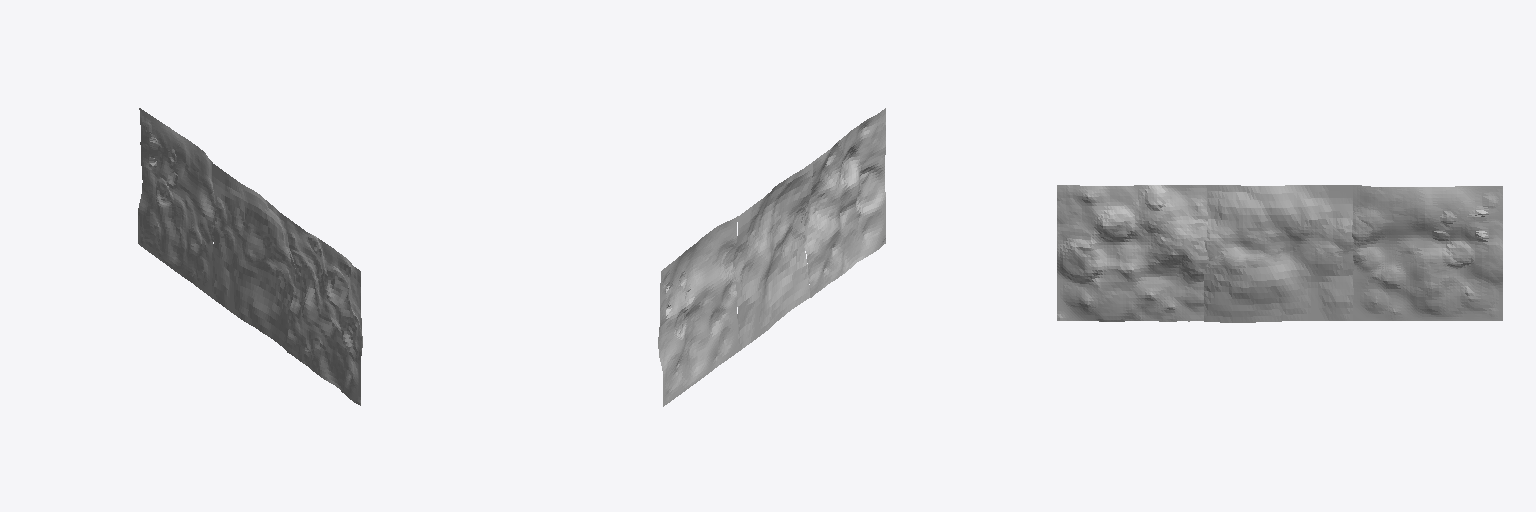
The model's file is wall.obj.
3 renders of one model, left to right at view 1: azimuth 30°, elevation 25°; view 2: azimuth 150°, elevation 25°; view 3: azimuth 270°, elevation 25°, orthographic.
Parts seen in each view (by area): view 1: Plane, Plane.001, Plane.002; view 2: Plane.002, Plane.001, Plane; view 3: Plane.002, Plane.001, Plane.
Part boxes in pixels (x1,y1,x2,y2): Plane: (212, 163, 295, 350); Plane.001: (138, 108, 216, 297); Plane.002: (287, 218, 362, 405); Plane.002: (801, 108, 885, 297); Plane.001: (658, 216, 737, 406); Plane: (733, 162, 812, 351); Plane.002: (1057, 185, 1208, 321); Plane.001: (1352, 185, 1502, 320); Plane: (1203, 185, 1353, 322).
Size of the model in its own units: 4.16 by 40.31 by 119.